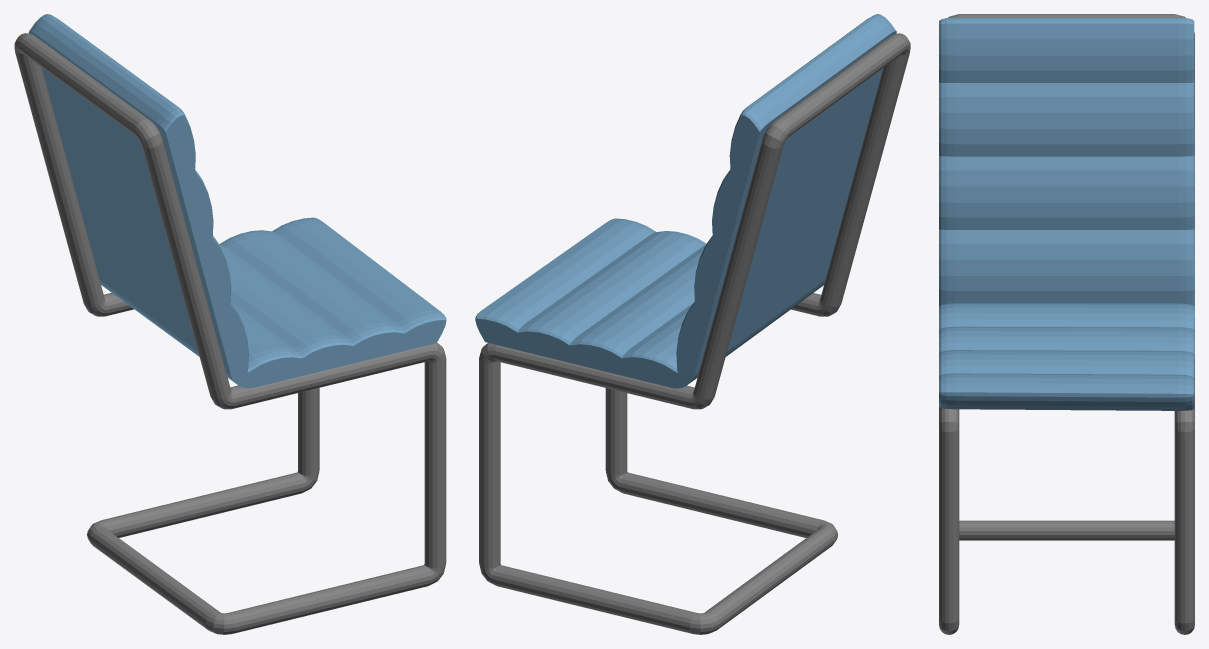
Rendered from conf_chair.glb.
3 views of the same model, side by side, from view 1: azimuth 30°, elevation 25°; view 2: azimuth 150°, elevation 25°; view 3: azimuth 270°, elevation 25° (orthographic). The views are drawn at different scales.
Parts seen in each view (by area): view 1: Cube; view 2: Cube; view 3: Cube.
Part boxes in pixels (left/top/right/bottom): Cube: left=14, top=14, right=446, bottom=634; Cube: left=475, top=14, right=910, bottom=634; Cube: left=939, top=14, right=1194, bottom=634.
Size of the model in its own units: 1.41 by 2.36 by 1.09.
Materials: 2 (2 with a texture image).
